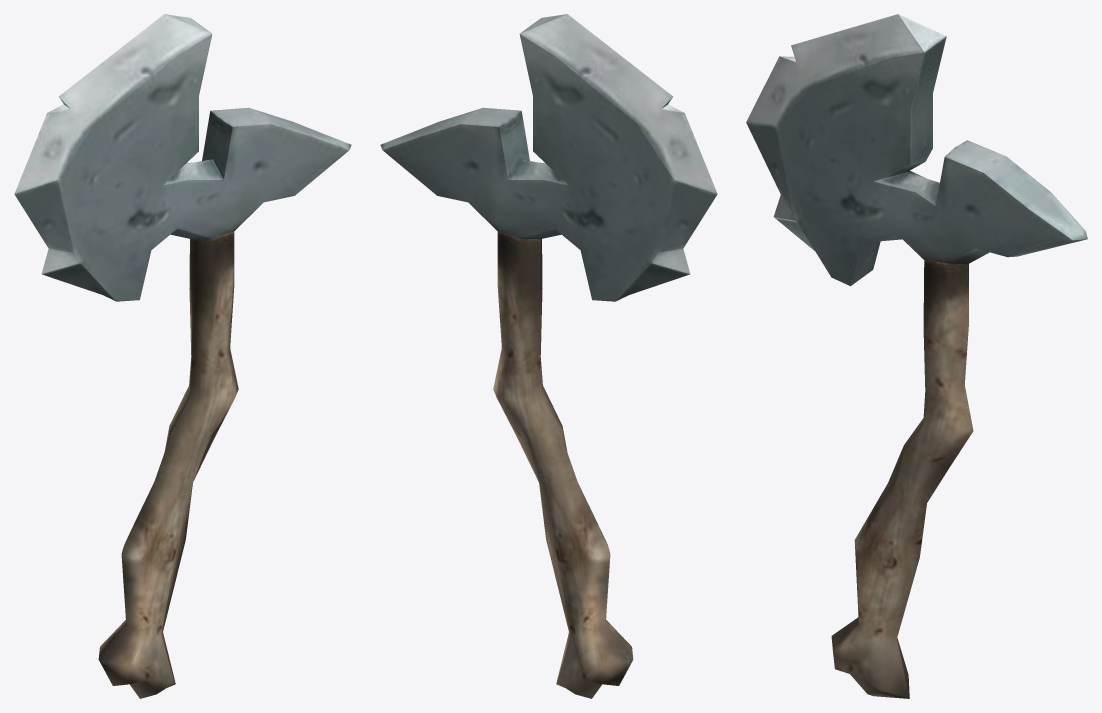
File: axe.glb
The picture shows the model from 3 angles, left to right: view 1: azimuth 30°, elevation 25°; view 2: azimuth 150°, elevation 25°; view 3: azimuth 330°, elevation 25°; orthographic projection.
Parts seen in each view (by area): view 1: axe_model; view 2: axe_model; view 3: axe_model.
Boxes of the visible parts, x1,y1,x2,y2 form: axe_model: (14,14,351,698); axe_model: (380,14,717,698); axe_model: (746,14,1087,698).
Bounding box in the file's own units: 0.2859 × 0.55 × 0.0461.
Materials: 1 (1 with a texture image).
